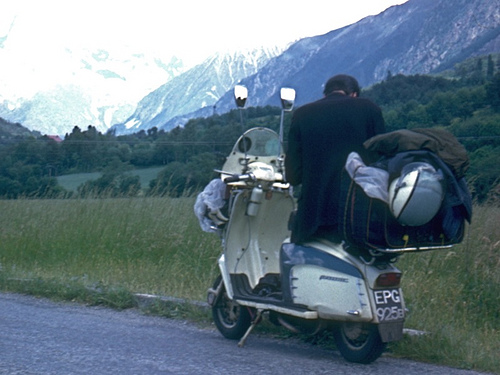helmet: (397, 161, 447, 228)
